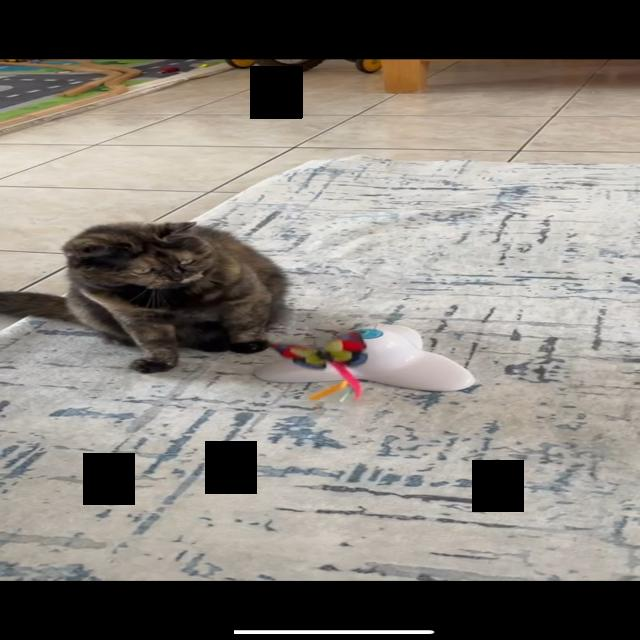authorized: (1, 220, 290, 374)
